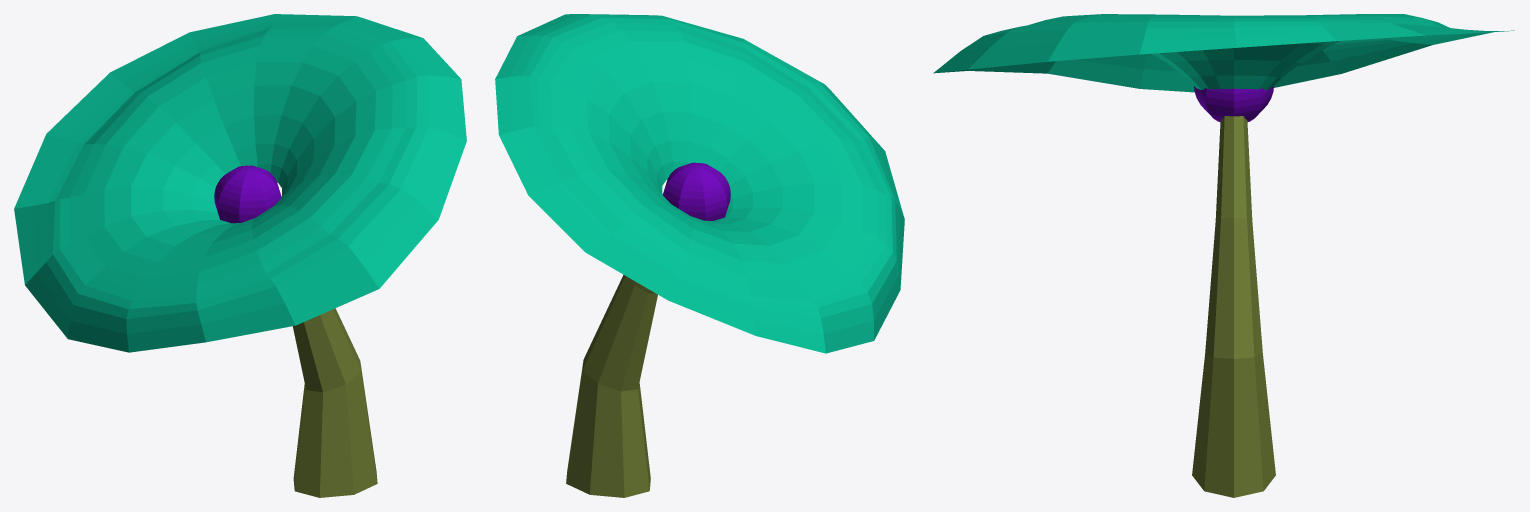
The model's file is biomass_02.glb.
3 renders of one model, left to right at view 1: azimuth 30°, elevation 25°; view 2: azimuth 150°, elevation 25°; view 3: azimuth 270°, elevation 25°, orthographic. The views are drawn at different scales.
Visible parts, largest first — view 1: cap, stem, core; view 2: cap, stem, core; view 3: cap, stem, core.
Part boxes in pixels (x1,y1,x2,y2): cap: [14, 14, 466, 352]; stem: [293, 308, 377, 497]; core: [214, 165, 281, 223]; cap: [495, 14, 904, 353]; stem: [566, 274, 657, 497]; core: [663, 162, 730, 220]; cap: [933, 14, 1514, 92]; stem: [1192, 116, 1275, 497]; core: [1194, 86, 1273, 121].
Bounding box in the file's own units: 0.7925 × 0.9106 × 0.9939.
